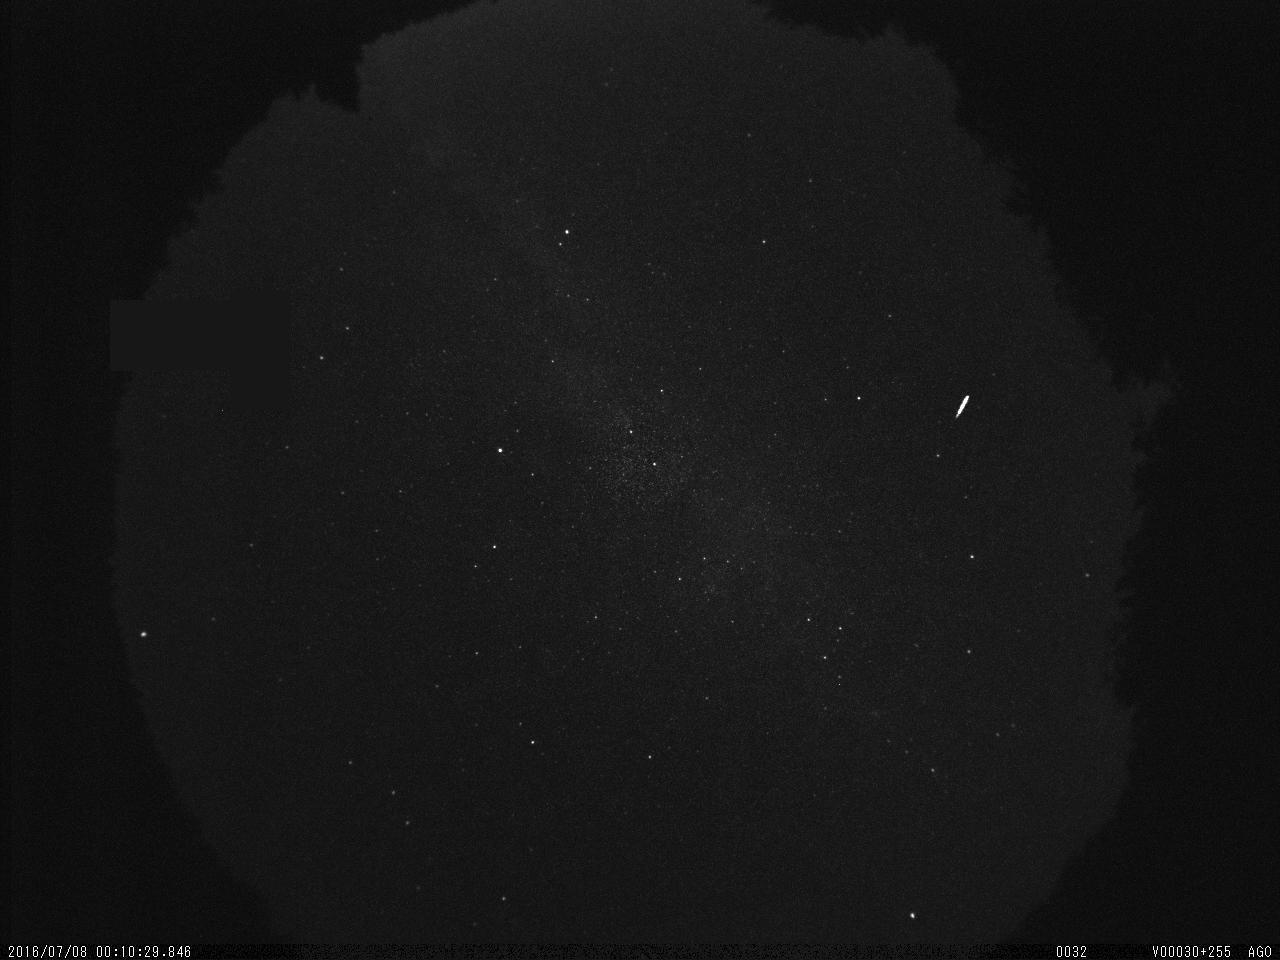meteor: (953, 388, 973, 427)
